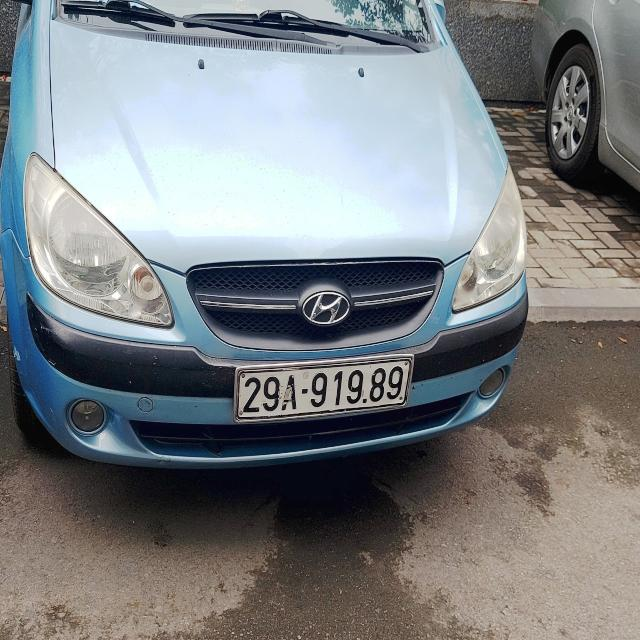license_plate: (236, 357, 410, 425)
